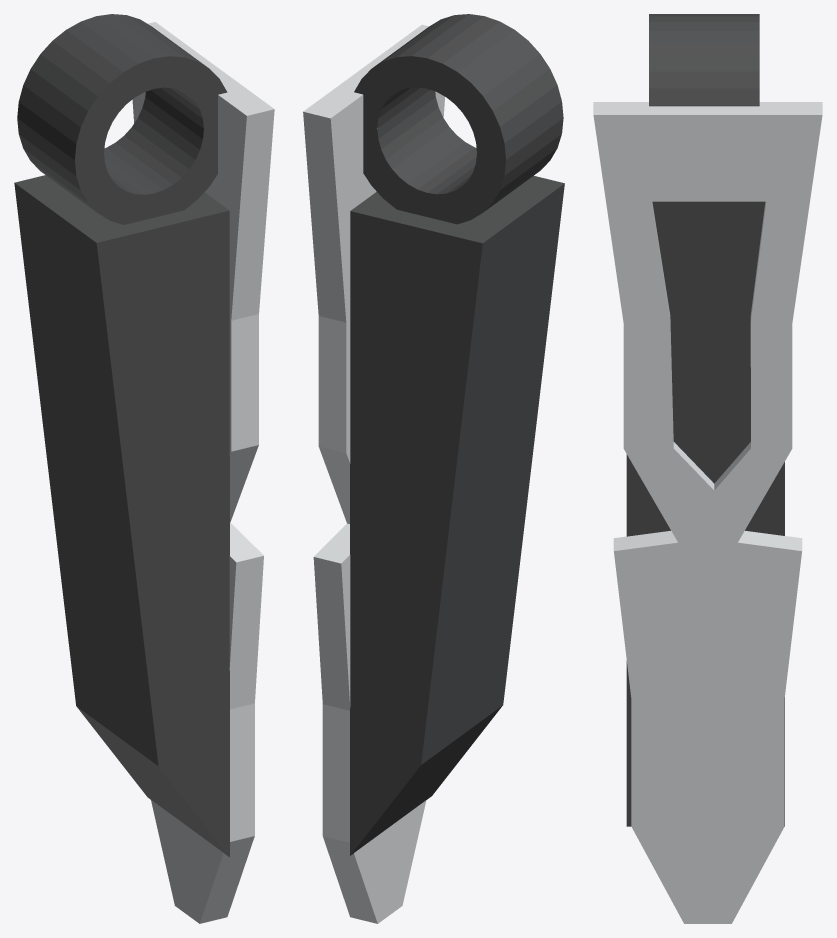
File: forearm.fbx
3 renders of one model, left to right at view 1: azimuth 30°, elevation 25°; view 2: azimuth 150°, elevation 25°; view 3: azimuth 270°, elevation 25°, orthographic. The views are drawn at different scales.
Visible parts, largest first — view 1: Cube.002; view 2: Cube.002; view 3: Cube.002.
Part boxes in pixels (x1,y1,x2,y2): Cube.002: (14, 14, 274, 923); Cube.002: (303, 14, 564, 923); Cube.002: (593, 14, 822, 923).
Size of the model in its own units: 165 by 827 by 200.
